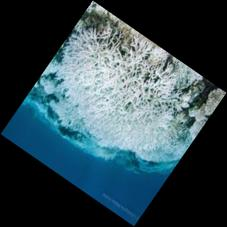bleached_corals: (21, 2, 226, 199)
